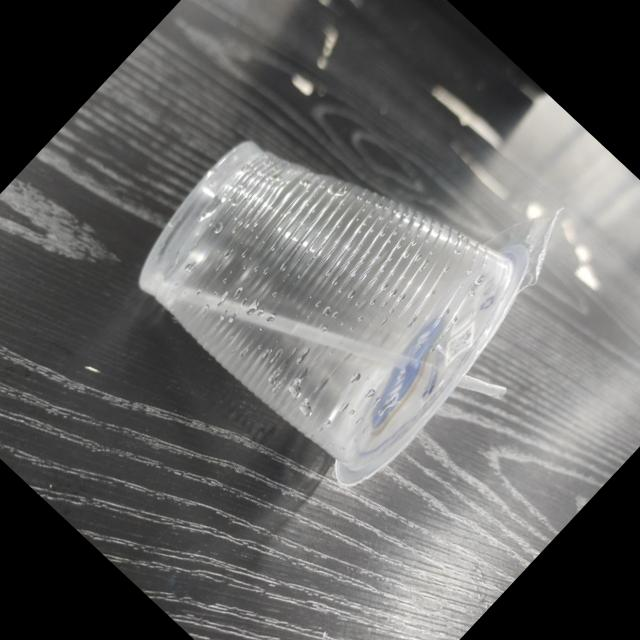GelasPlastik: (112, 12, 622, 522)
